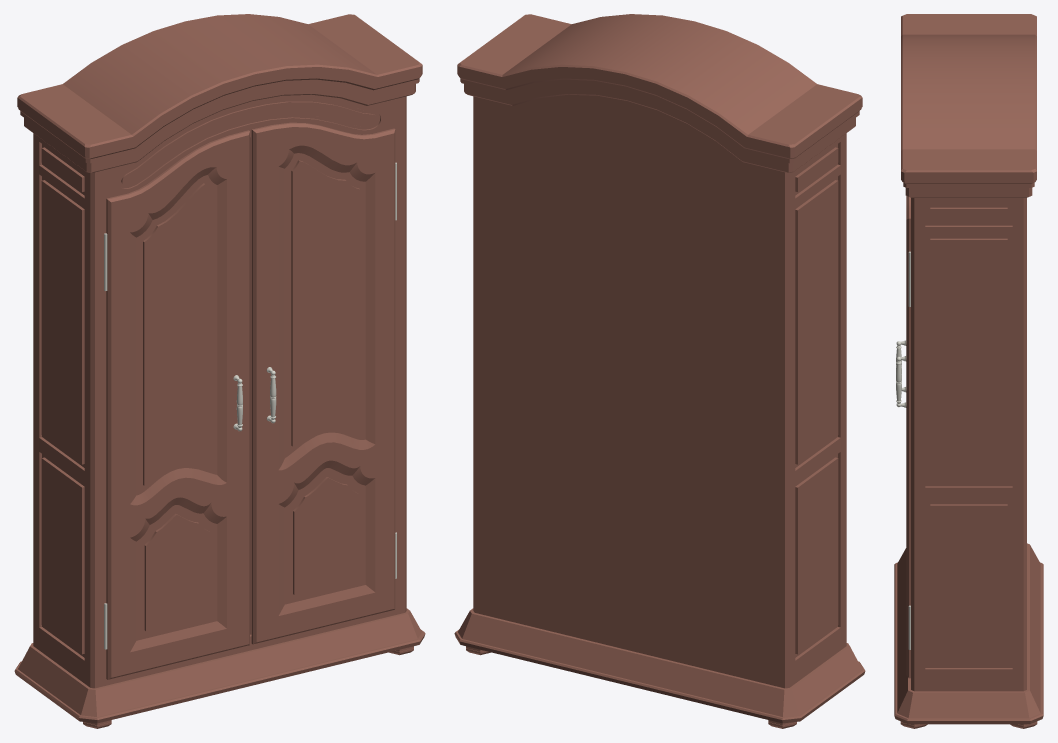
The model's file is 939_closet.glb.
3 views of the same model, side by side, from view 1: azimuth 30°, elevation 25°; view 2: azimuth 150°, elevation 25°; view 3: azimuth 270°, elevation 25° (orthographic). The views are drawn at different scales.
Visible parts, largest first — view 1: Body, right, left; view 2: Body; view 3: Body, right.
Part boxes in pixels (<box>): Body: <box>14,14,425,728</box>; right: <box>251,122,395,644</box>; left: <box>106,130,249,679</box>; Body: <box>454,14,865,728</box>; Body: <box>894,14,1043,728</box>; right: <box>896,196,910,678</box>.
Bounding box in the file's own units: 1.19 × 2.03 × 0.4649.
